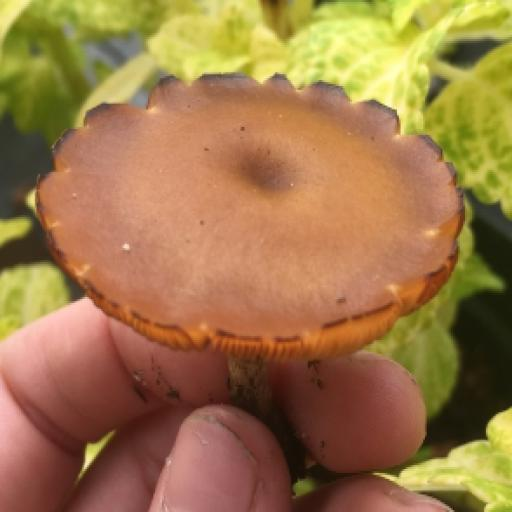mushroom: (16, 61, 482, 390)
